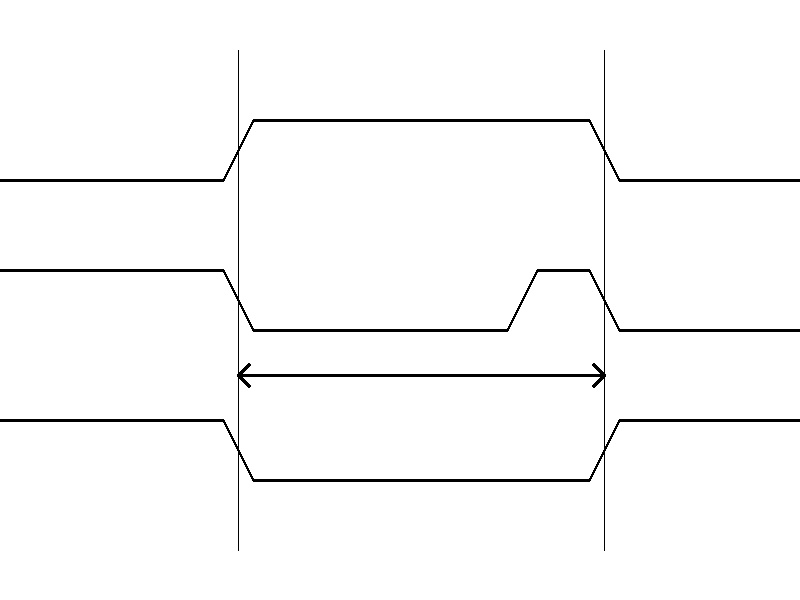double_arrow: (238, 360, 604, 390)
